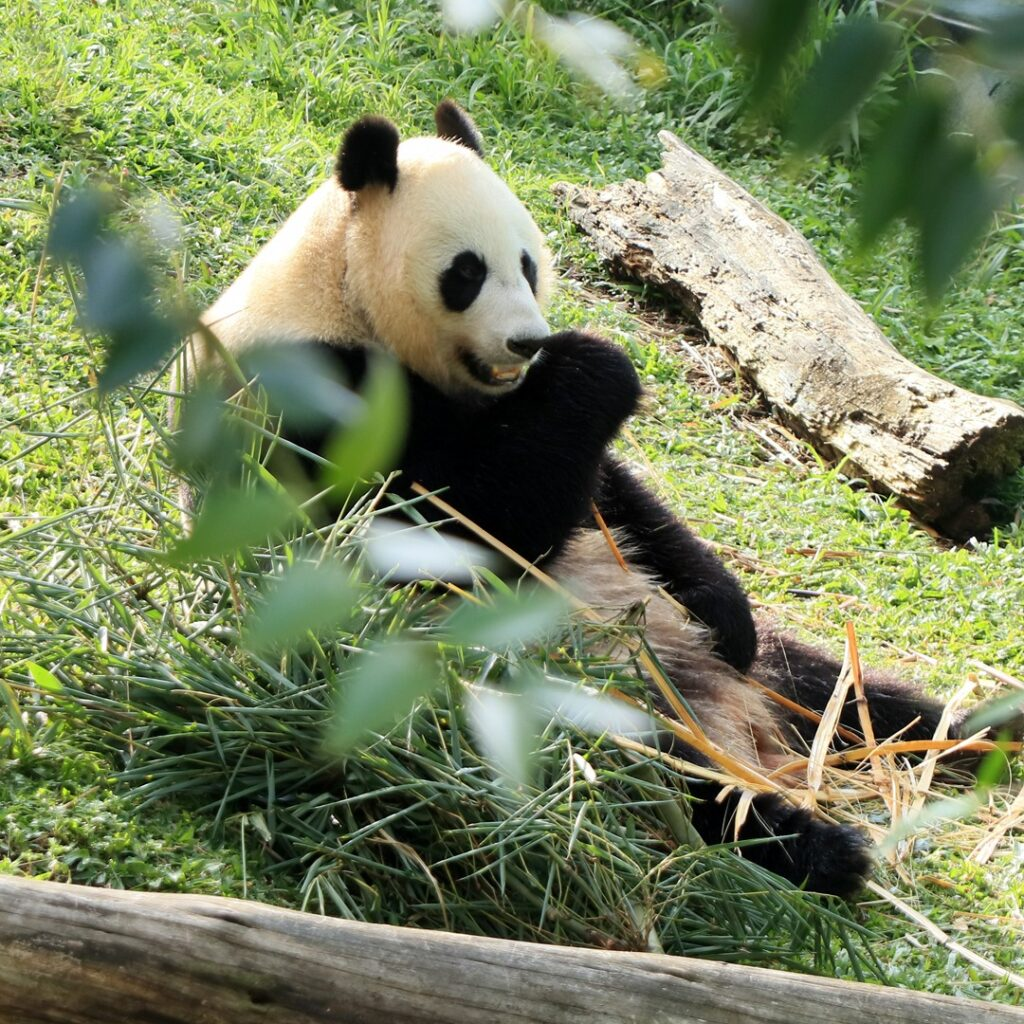Giant panda: (338, 94, 563, 393)
